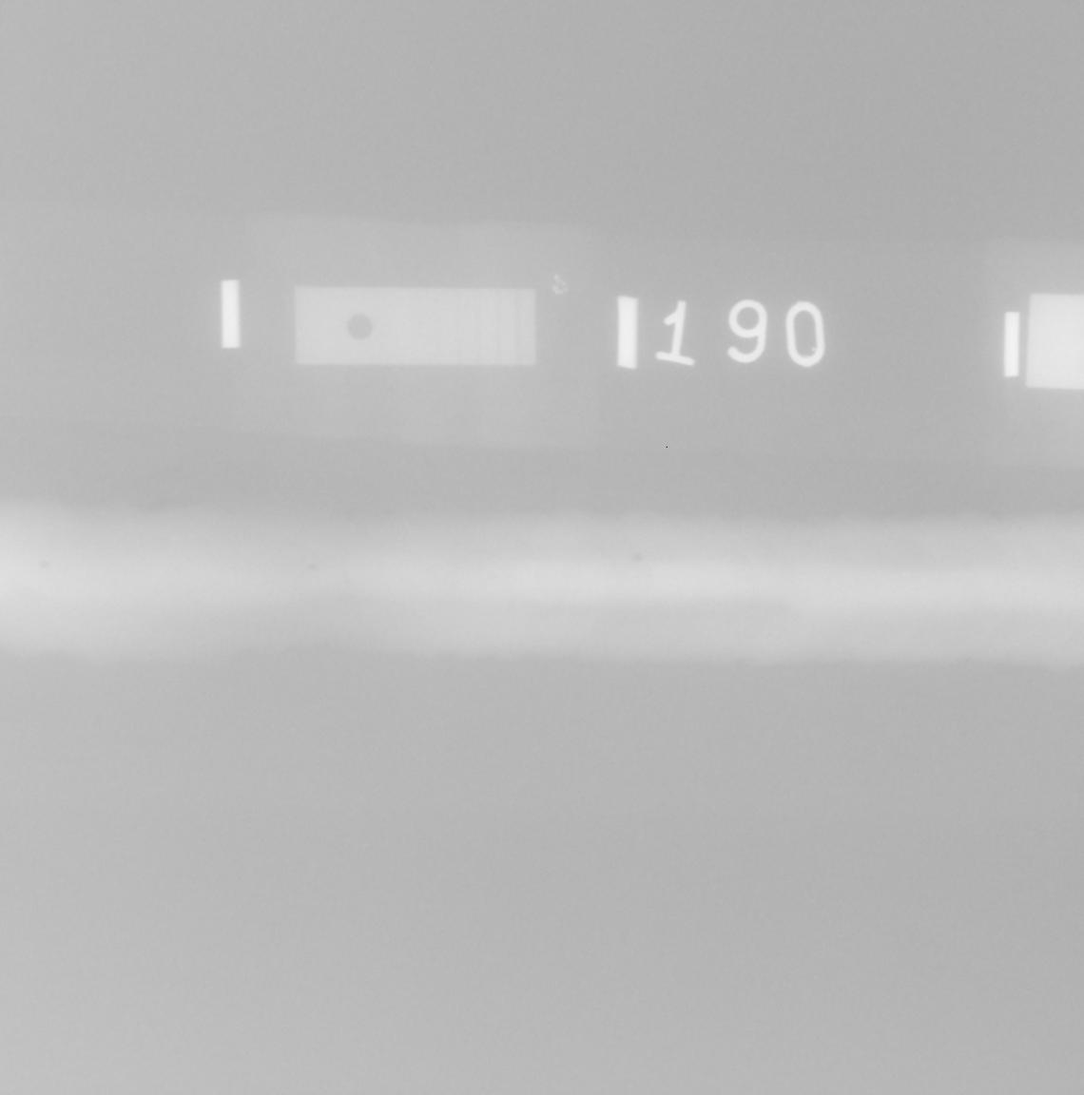Inclusion: (343, 571, 361, 583)
Pore/Porosity: (36, 561, 51, 571), (633, 553, 644, 562), (309, 564, 317, 570)
Reference Standard 1: (293, 286, 537, 367)
